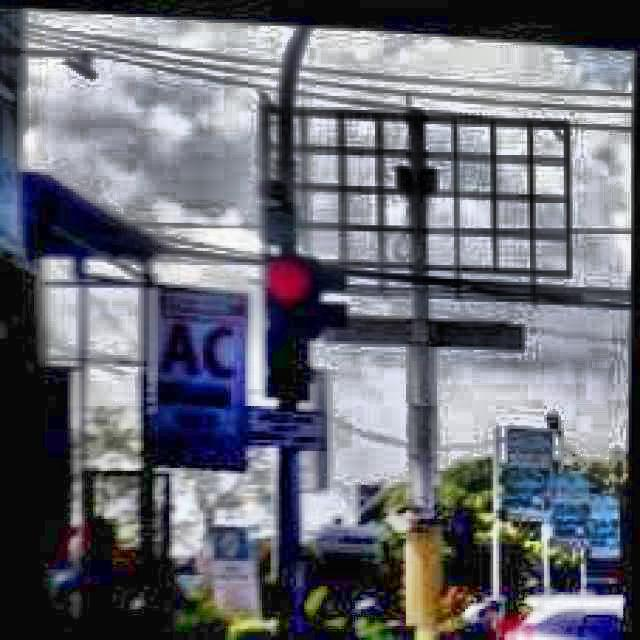red: (256, 246, 318, 396)
